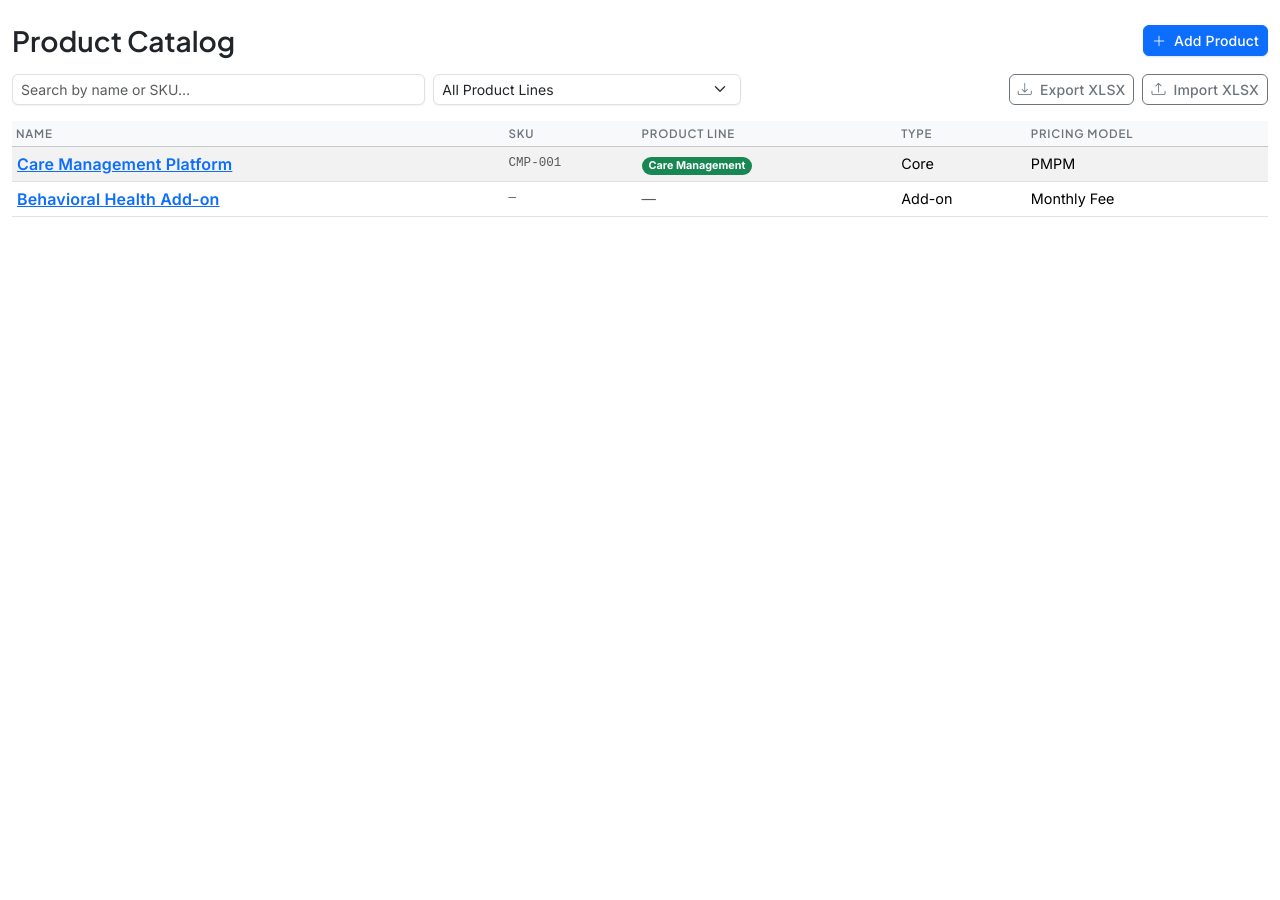
Test: Delete product › shows confirmation modal when Delete is clicked
Step 1. Click the button with aria-label "view details for care management platform" → click(125, 164), box [16,151,233,177]
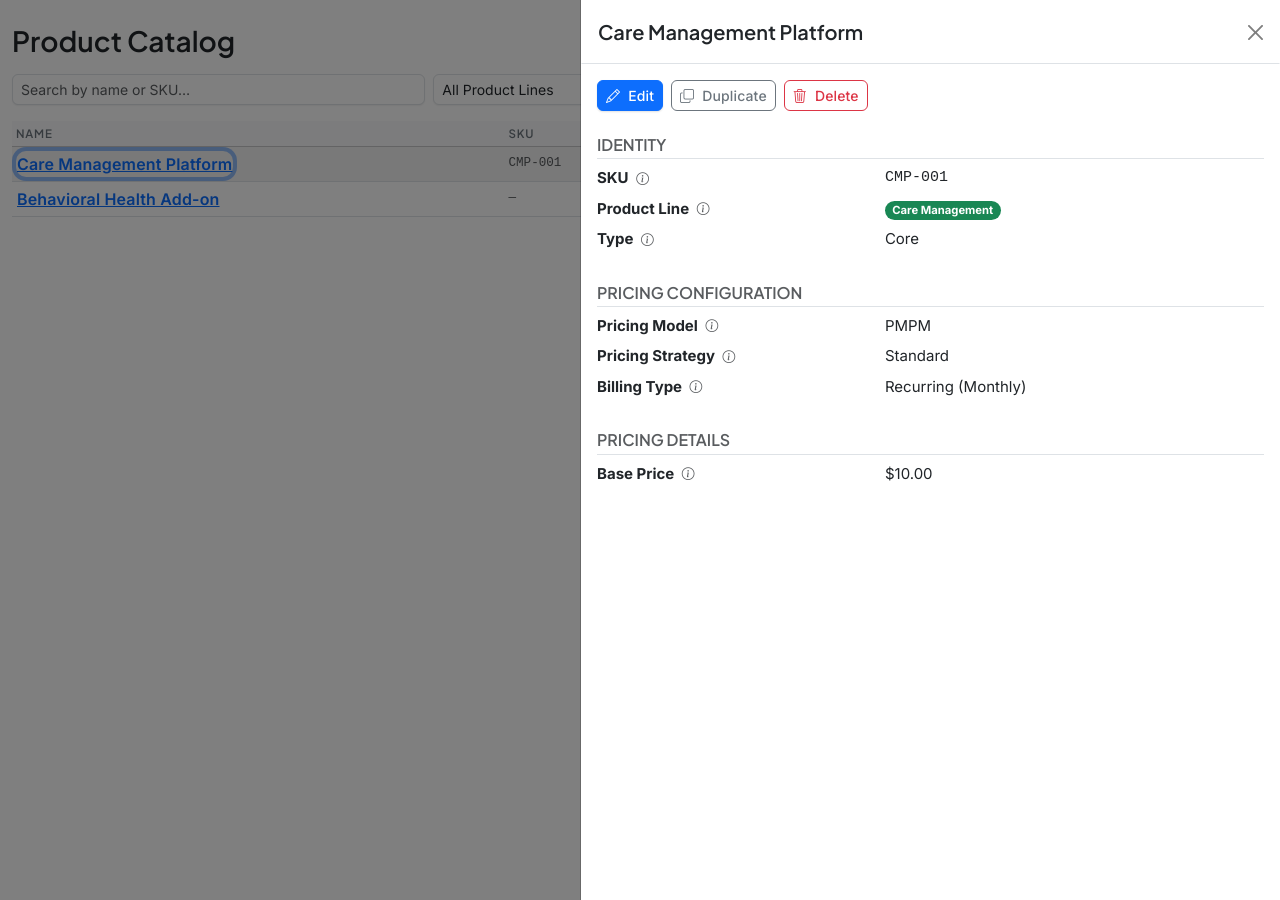
Step 2. Click the button with aria-label "delete care management platform" → click(826, 96), box [784,80,868,111]
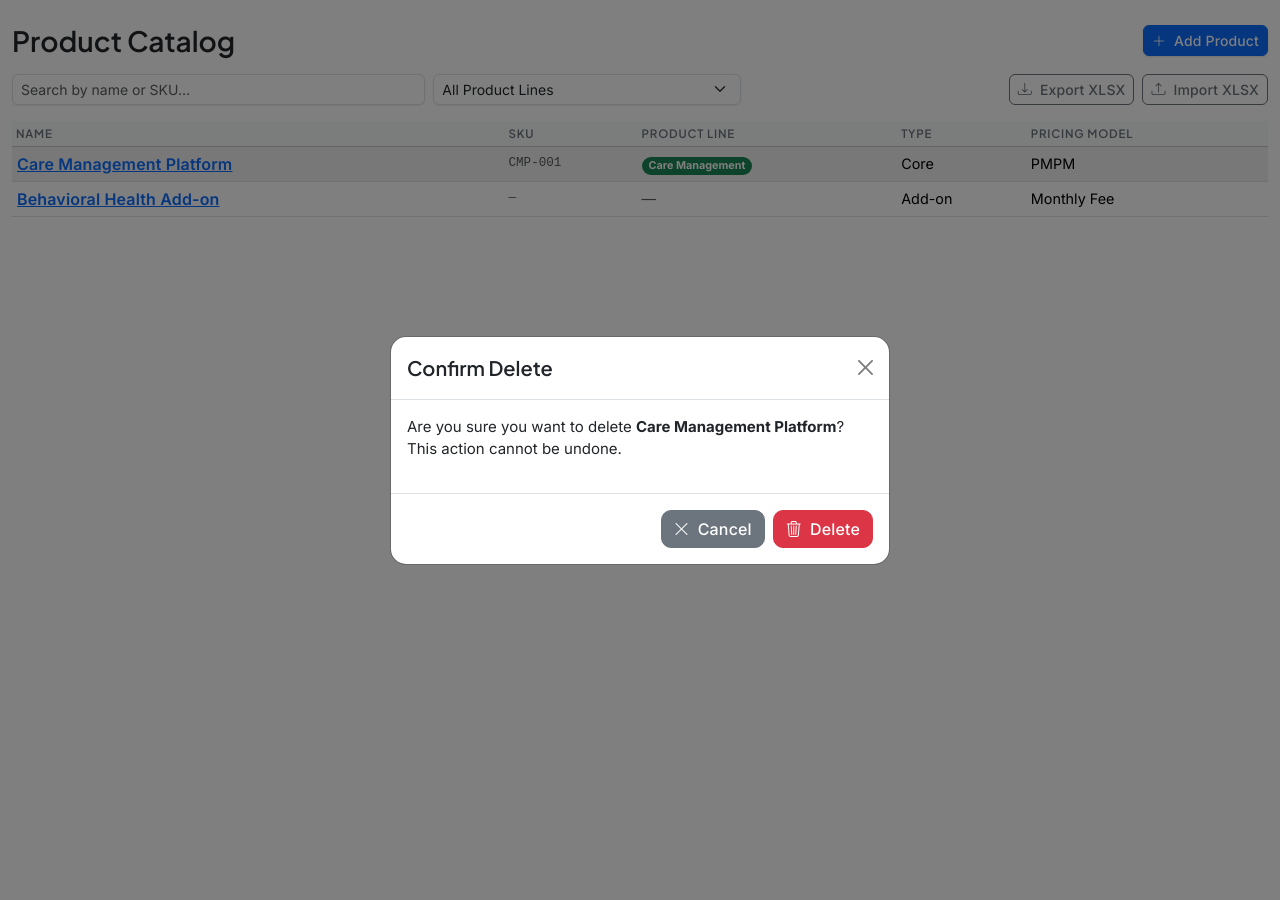
Expected: the dialog "Confirm Delete" is shown
